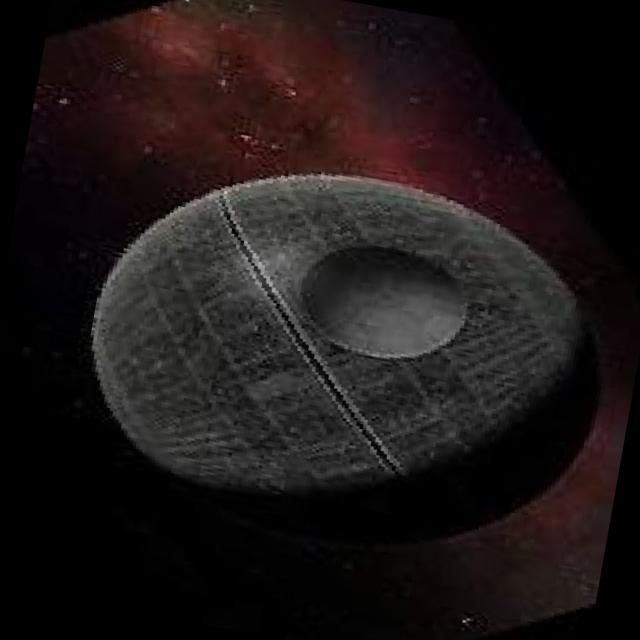Death Star: (56, 125, 614, 557)
